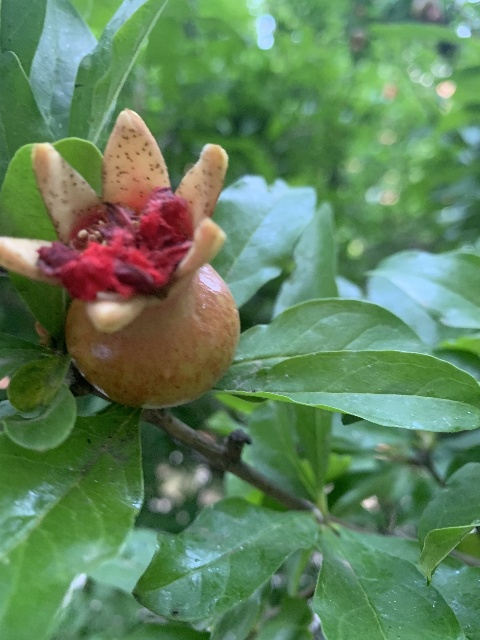early-fruit: (1, 104, 238, 407)
